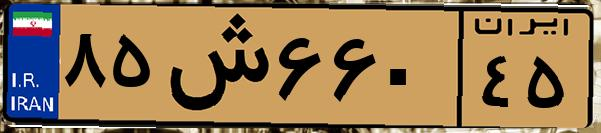0: (385, 28, 445, 110)
4: (475, 38, 525, 113)
5: (525, 38, 570, 115), (110, 28, 158, 98)
6: (270, 28, 330, 110), (330, 28, 385, 110)
8: (57, 26, 110, 100)
ش: (158, 12, 270, 120)
